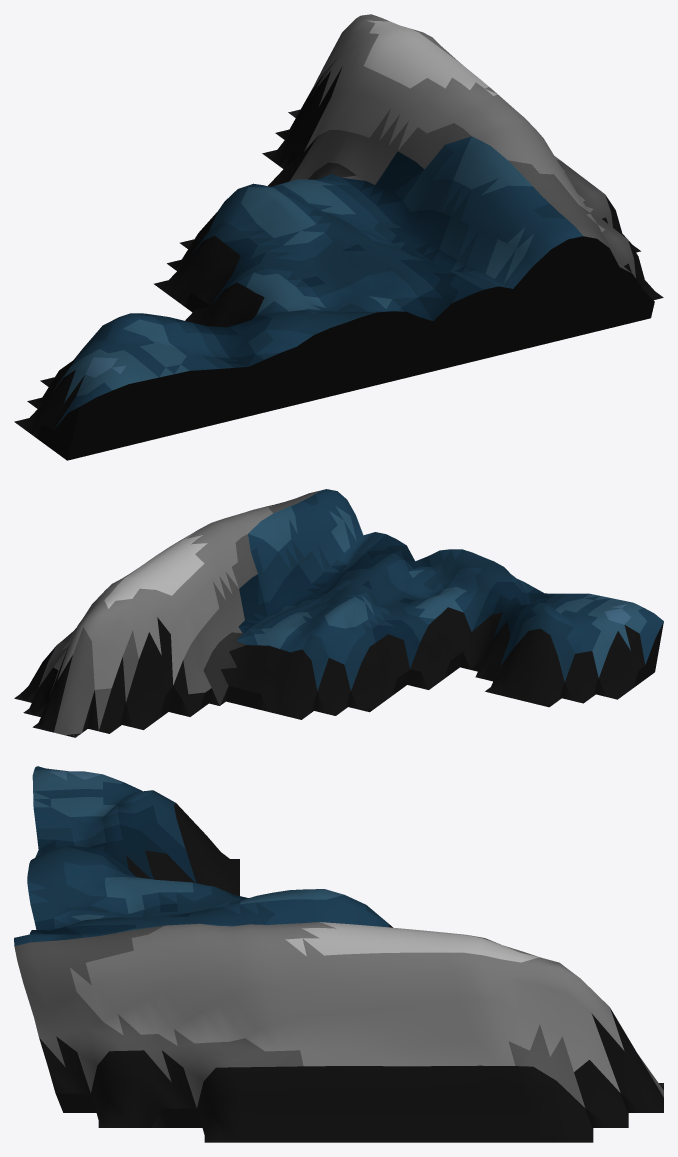
The model's file is gryphon_15.glb.
The picture shows the model from 3 angles, top to bottom: view 1: azimuth 30°, elevation 25°; view 2: azimuth 150°, elevation 25°; view 3: azimuth 270°, elevation 25°; orthographic projection. The views are drawn at different scales.
Parts seen in each view (by area): view 1: gryphon_15; view 2: gryphon_15; view 3: gryphon_15.
Part boxes in pixels (x1,y1,x2,y2): gryphon_15: [14, 14, 663, 460]; gryphon_15: [14, 489, 663, 737]; gryphon_15: [14, 766, 663, 1142].
Size of the model in its own units: 21 by 4.85 by 18.4.
